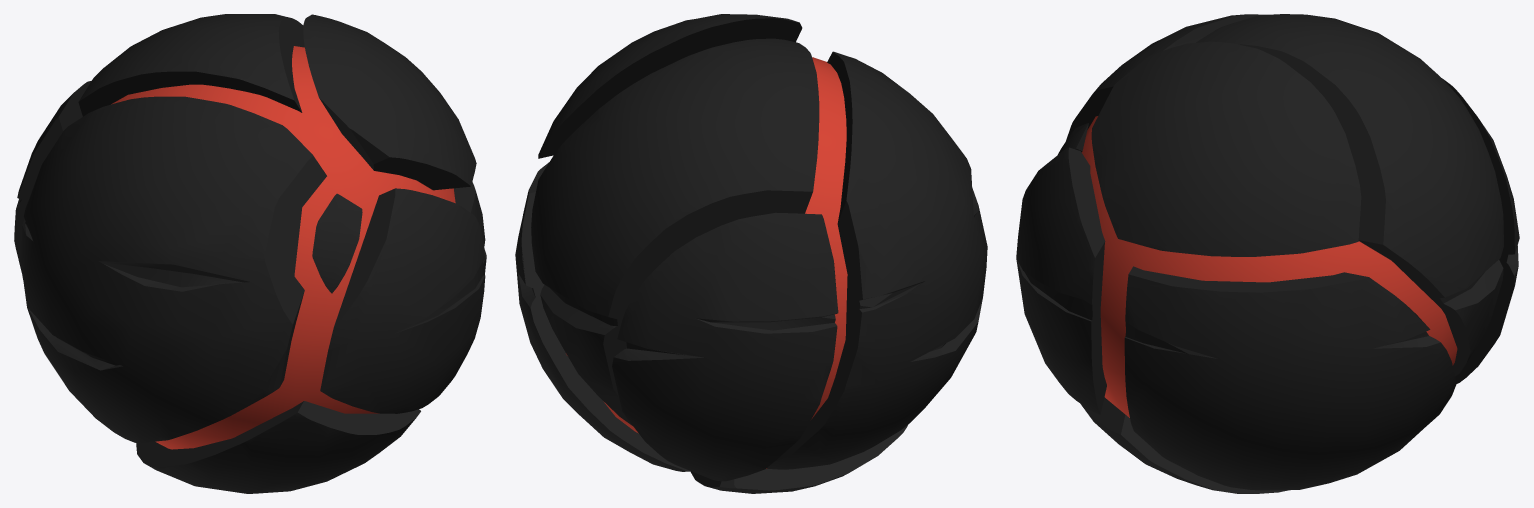
The model's file is planet_11.glb.
3 views of the same model, side by side, from view 1: azimuth 30°, elevation 25°; view 2: azimuth 150°, elevation 25°; view 3: azimuth 270°, elevation 25° (orthographic). The views are drawn at different scales.
Visible parts, largest first — view 1: Planet_11; view 2: Planet_11; view 3: Planet_11.
Part boxes in pixels (<box>): Planet_11: <box>14,14,486,493</box>; Planet_11: <box>515,14,987,493</box>; Planet_11: <box>1016,14,1519,493</box>.
Size of the model in its own units: 5.59 by 5.67 by 5.74.
Materials: 1 (1 with a texture image).
